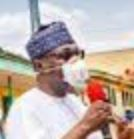with_facemask: (58, 59, 99, 97)
